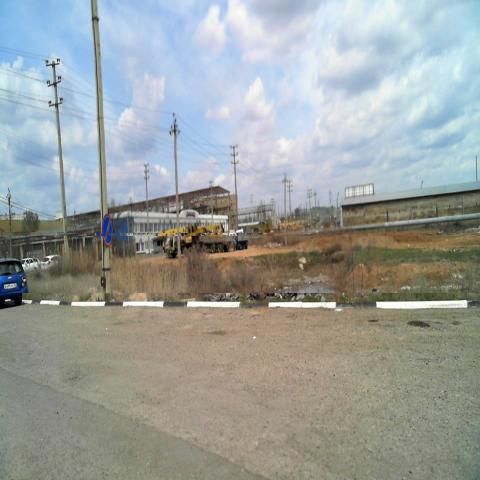3_28: (101, 214, 113, 246)
